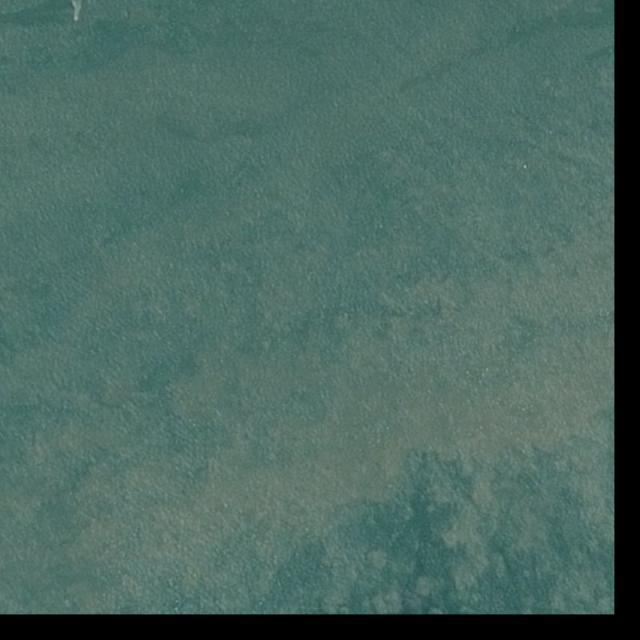ship: (73, 16, 81, 24)
